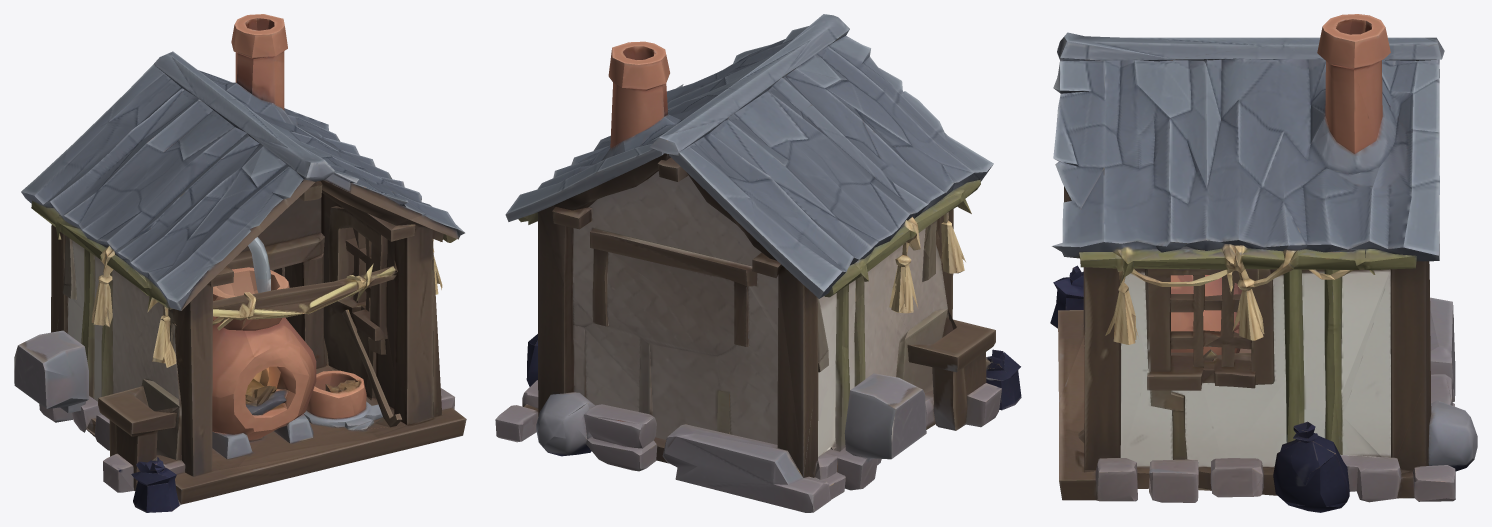
Rendered from forge.glb.
3 views of the same model, side by side, from view 1: azimuth 30°, elevation 25°; view 2: azimuth 150°, elevation 25°; view 3: azimuth 270°, elevation 25° (orthographic). The views are drawn at different scales.
Visible parts, largest first — view 1: forge; view 2: forge; view 3: forge.
Part boxes in pixels (x1,y1,x2,y2): forge: (14,14,466,512); forge: (495,14,1021,512); forge: (1050,14,1477,512).
Size of the model in its own units: 6.41 by 6 by 5.46.
Materials: 1 (1 with a texture image).
